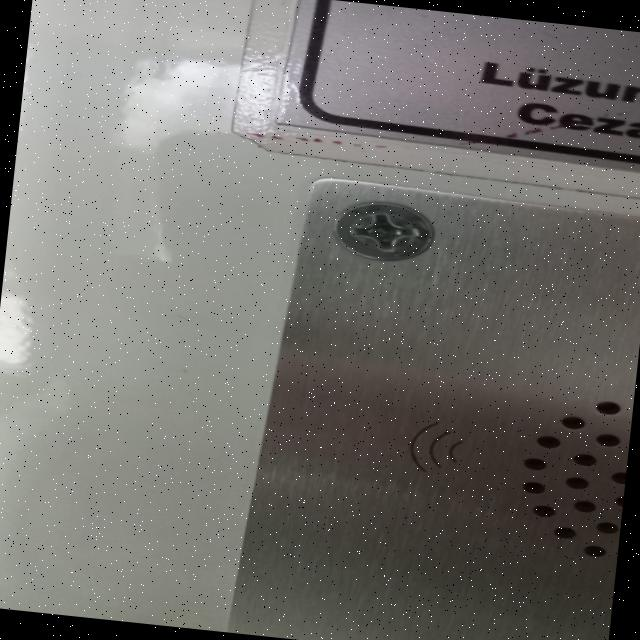Phillips: (330, 202, 438, 264)
